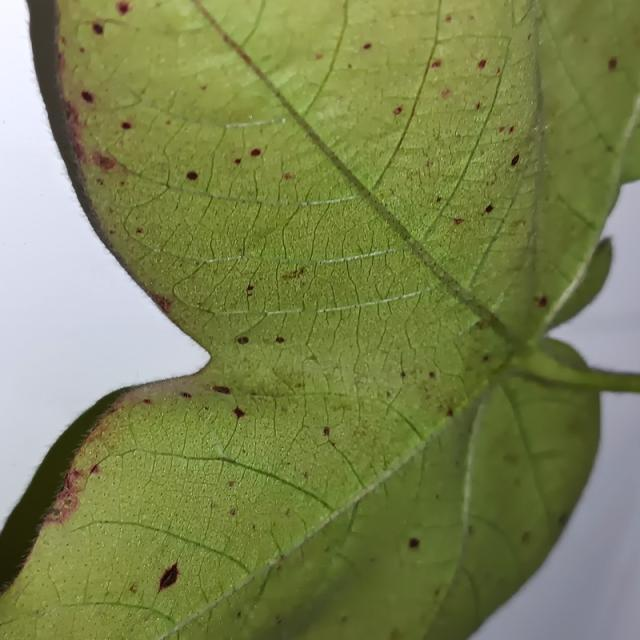Bacterial_Blight: (45, 459, 93, 526), (148, 552, 189, 592), (183, 166, 211, 185), (63, 470, 79, 492), (155, 295, 173, 312), (98, 154, 116, 170), (534, 294, 549, 308), (498, 121, 514, 134), (232, 406, 246, 419), (81, 90, 94, 103), (92, 22, 104, 35), (408, 537, 420, 548), (510, 154, 520, 167), (250, 148, 262, 157), (484, 204, 494, 214), (431, 60, 442, 68)
Cotton: (0, 0, 639, 639)
